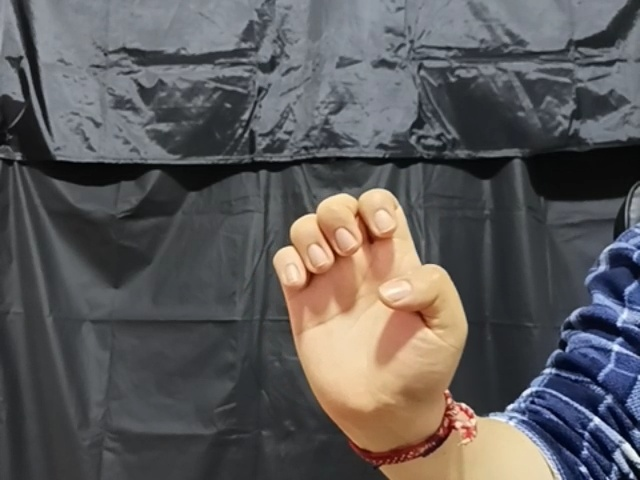E: (270, 187, 474, 447)
